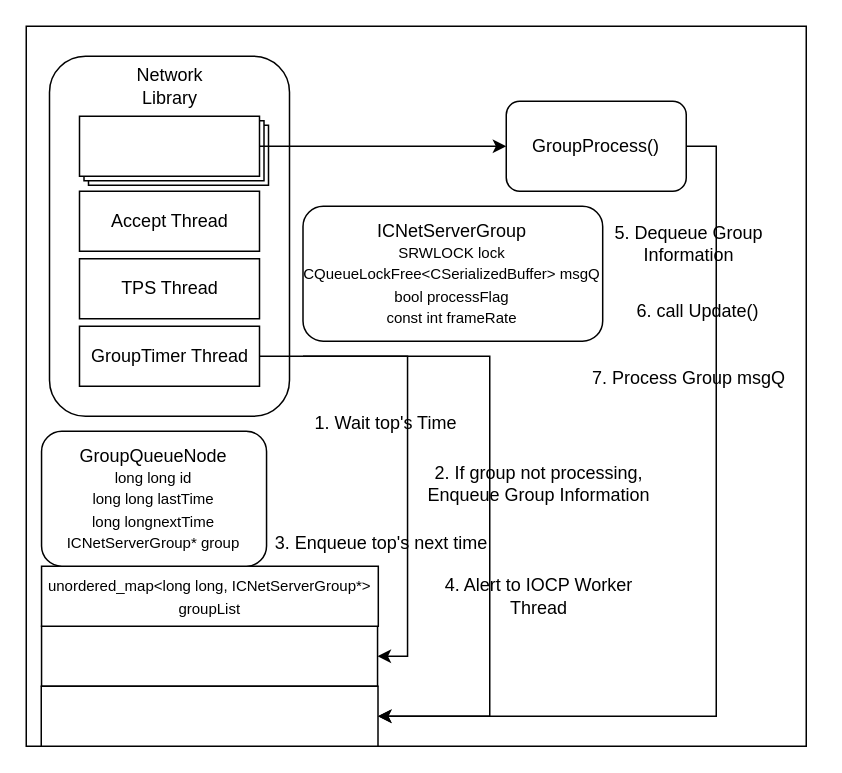
Some shapes in this 842 by 773 pixel diagram are drawn without their labels. The shapes that lost their labels are listed below. From the top down, each one's centre as x and y in pixels, then its label:
the point at 169,145: IOCP Worker Thread
the point at 209,655: priority_queue<GroupQueueNode> nextGroupAlertTime
the point at 209,715: CQueueLockFree<GroupQueueNode> groupQueue
